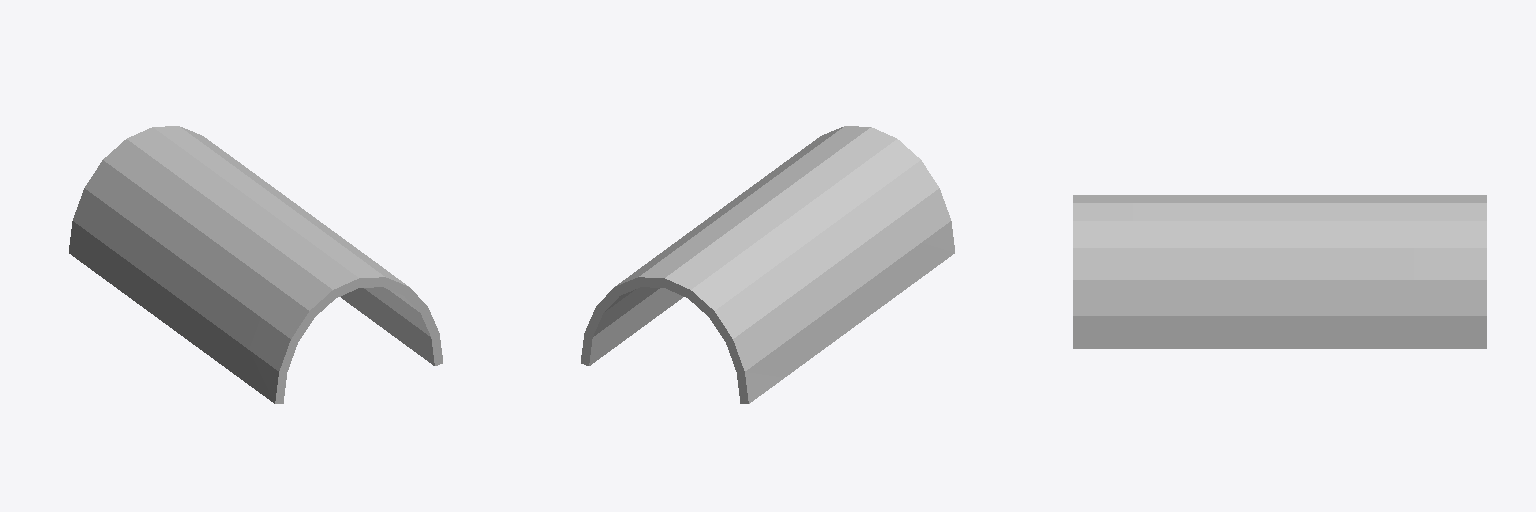
Rendered from Tunnel.obj.
3 views of the same model, side by side, from view 1: azimuth 30°, elevation 25°; view 2: azimuth 150°, elevation 25°; view 3: azimuth 270°, elevation 25° (orthographic).
Parts seen in each view (by area): view 1: Tunnel; view 2: Tunnel; view 3: Tunnel.
Part boxes in pixels (x1,y1,x2,y2): Tunnel: (69,126,442,403); Tunnel: (581,126,954,403); Tunnel: (1073,195,1486,348).
Size of the model in its own units: 196 by 119 by 416.